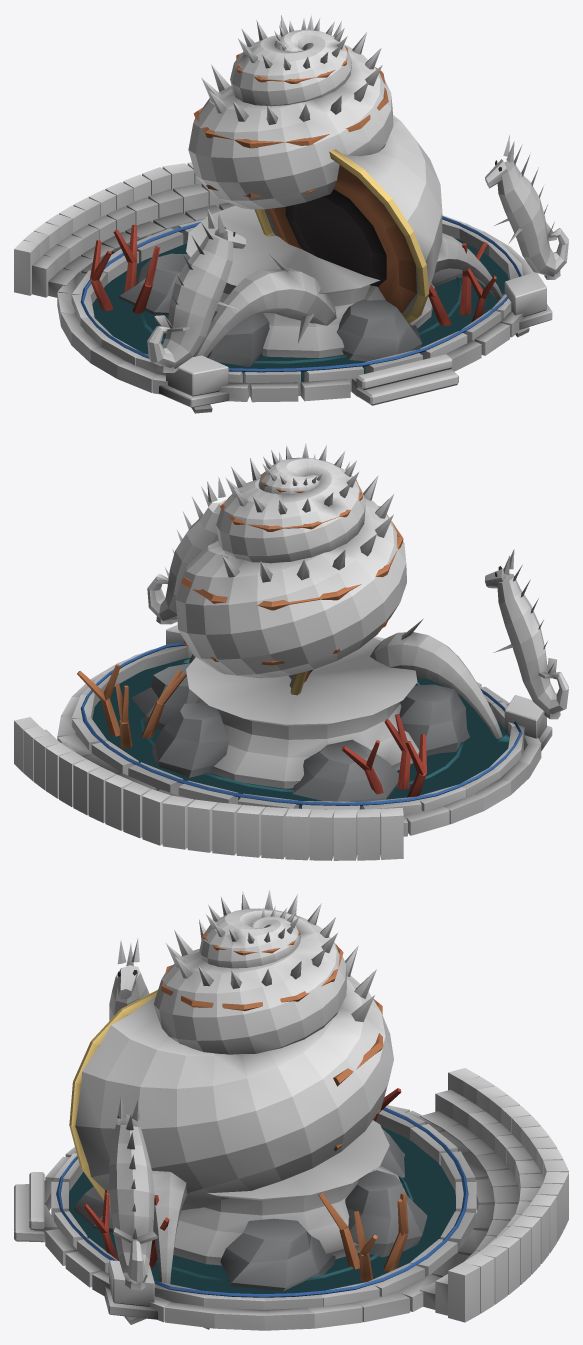
The model's file is tritons-conch-l3.glb.
3 renders of one model, top to bottom at view 1: azimuth 30°, elevation 25°; view 2: azimuth 150°, elevation 25°; view 3: azimuth 270°, elevation 25°, orthographic. The views are drawn at different scales.
Parts seen in each view (by area): view 1: tritons-conch-l3; view 2: tritons-conch-l3; view 3: tritons-conch-l3.
Boxes of the visible parts, bbox=[...] form: tritons-conch-l3: bbox=[14, 14, 568, 413]; tritons-conch-l3: bbox=[14, 443, 568, 860]; tritons-conch-l3: bbox=[14, 890, 568, 1330].
Bounding box in the file's own units: 1.65 × 1.11 × 1.73.
